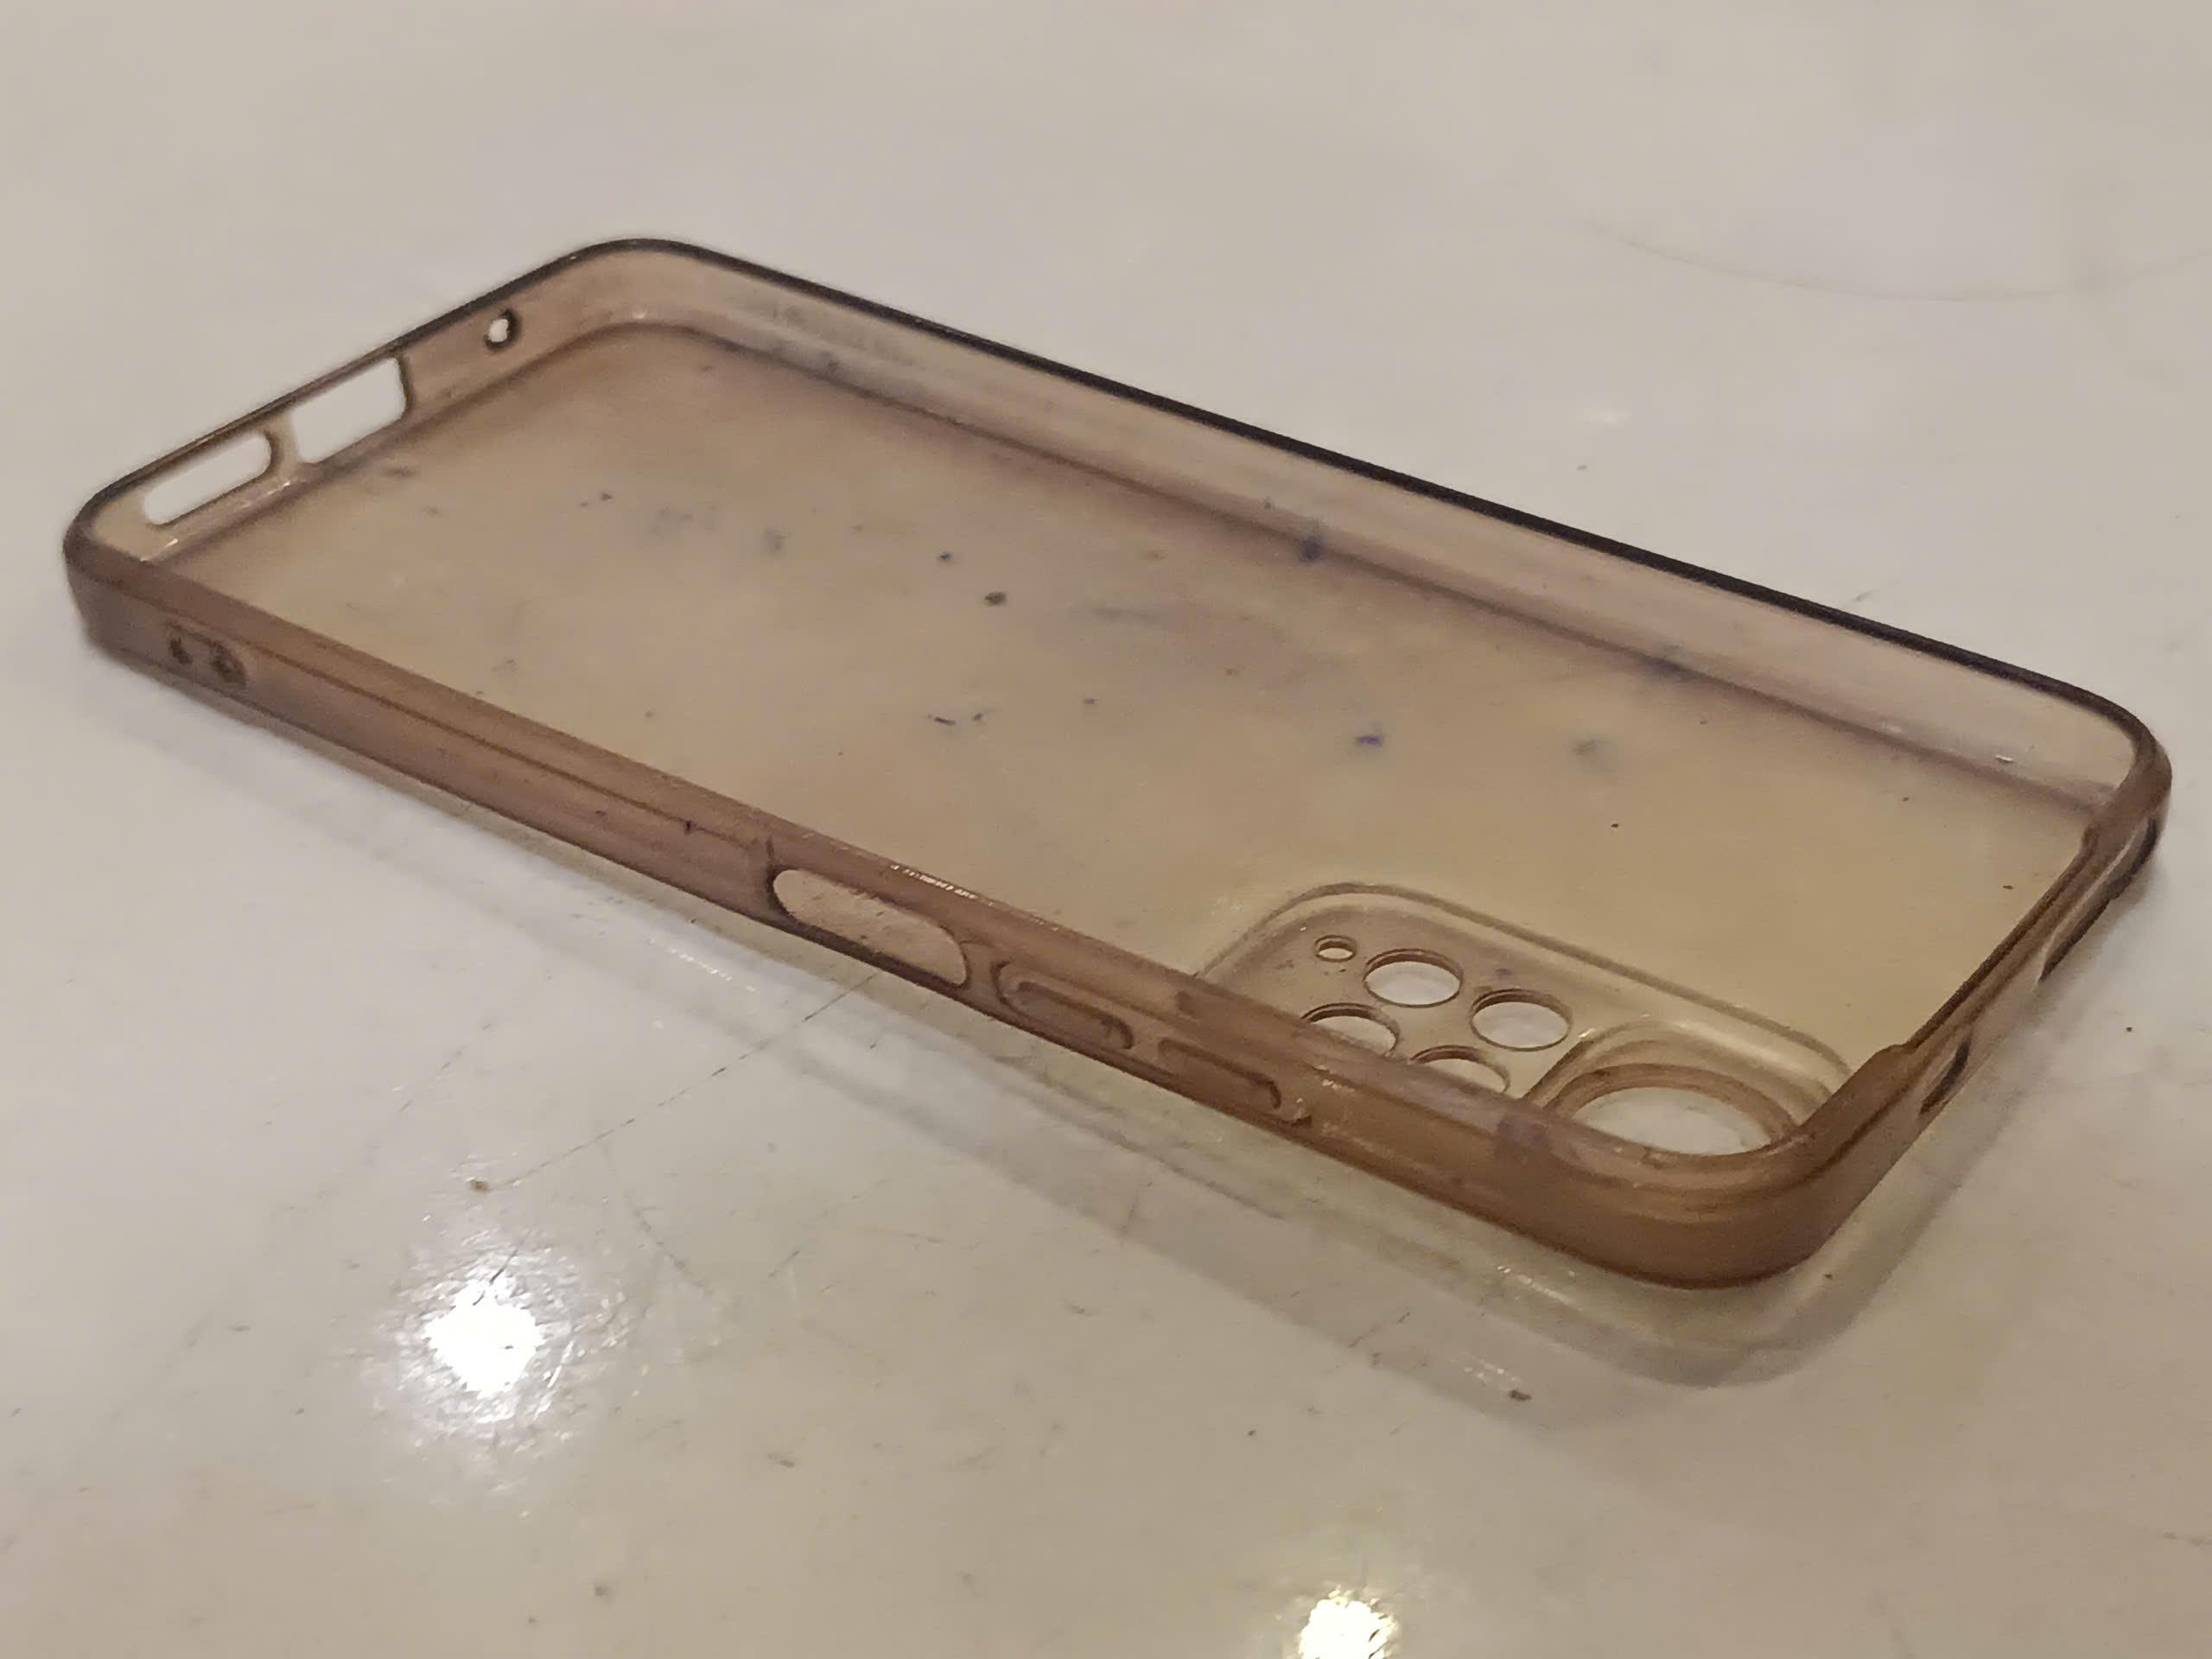Vo co: (66, 234, 2186, 1277)
